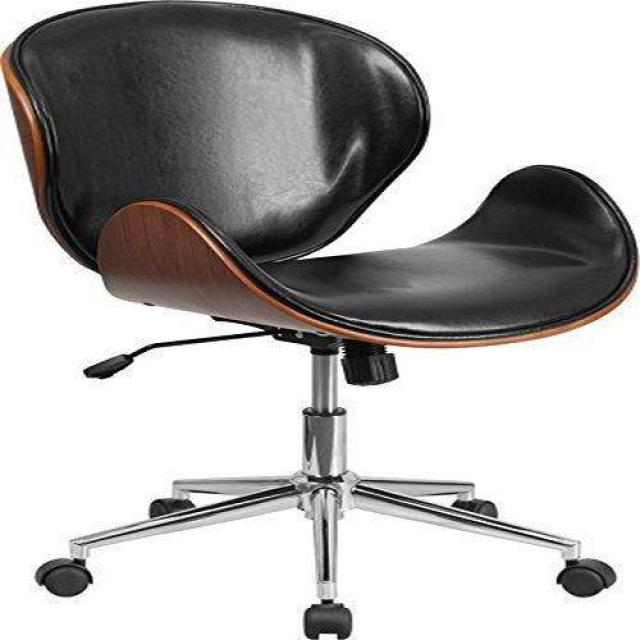swivelchair: (4, 0, 640, 640)
